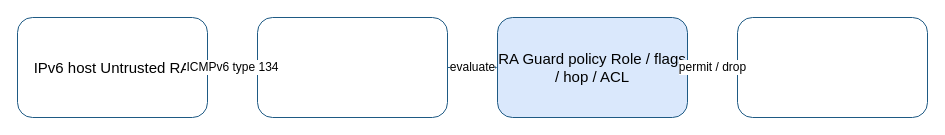
This 945x135 diagram has some shape labels left out. The centre of each missing label's shape, as x and y in pixels:
"Client VLAN Only permitted RA" belongs at point (832, 67).
"Switch ingress Port + VLAN" belongs at point (352, 67).
